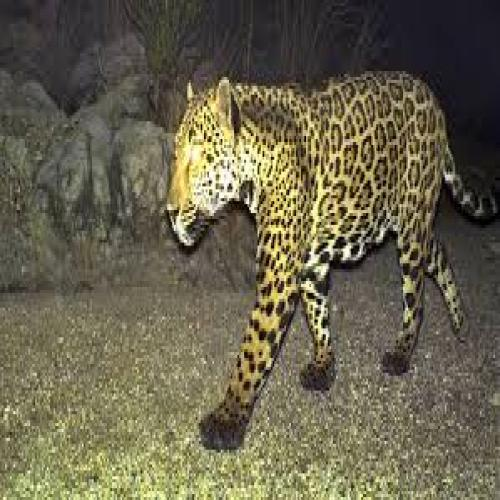jaguar_not-endangered: (181, 81, 454, 436)
